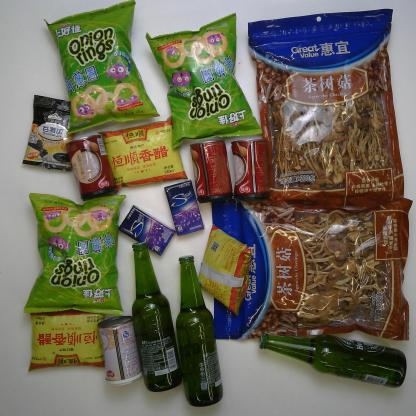Alcohol: (260, 324, 409, 387), (131, 236, 183, 392), (177, 254, 224, 407)
Canned Food: (64, 132, 118, 200), (95, 312, 143, 388), (188, 138, 234, 204), (230, 134, 269, 202)
Dried Food: (244, 4, 408, 208), (206, 189, 412, 344)
Gum: (118, 205, 174, 255), (164, 182, 204, 236)
Instant Drink: (22, 93, 78, 172)
Puffed Food: (144, 12, 265, 149), (41, 1, 161, 134), (24, 192, 128, 316)
Seasoner: (99, 117, 189, 189), (24, 309, 106, 374), (198, 223, 254, 314)
